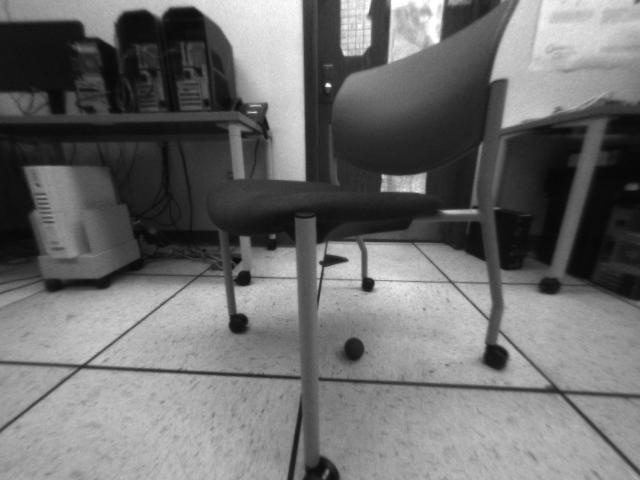dogtoy: (337, 333, 370, 363)
